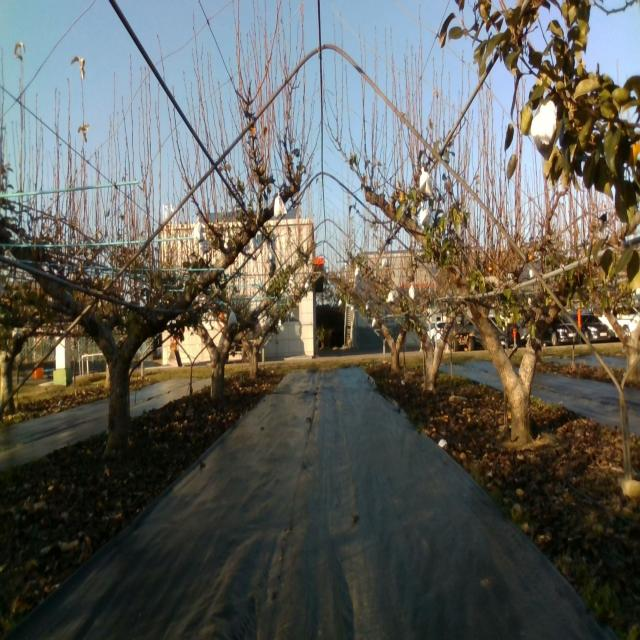pearbags: (530, 99, 556, 162), (192, 215, 206, 247), (419, 166, 433, 198), (274, 191, 288, 218), (420, 201, 430, 226)
